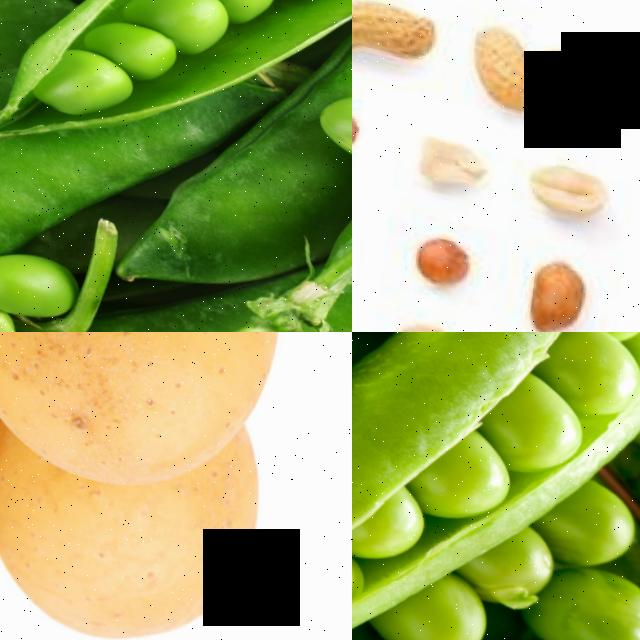peanuts: (463, 0, 637, 127), (352, 0, 441, 68), (528, 242, 591, 331), (411, 217, 476, 282)
peas: (352, 332, 640, 619), (32, 0, 282, 142)
potato: (0, 332, 300, 510), (0, 439, 265, 640)
